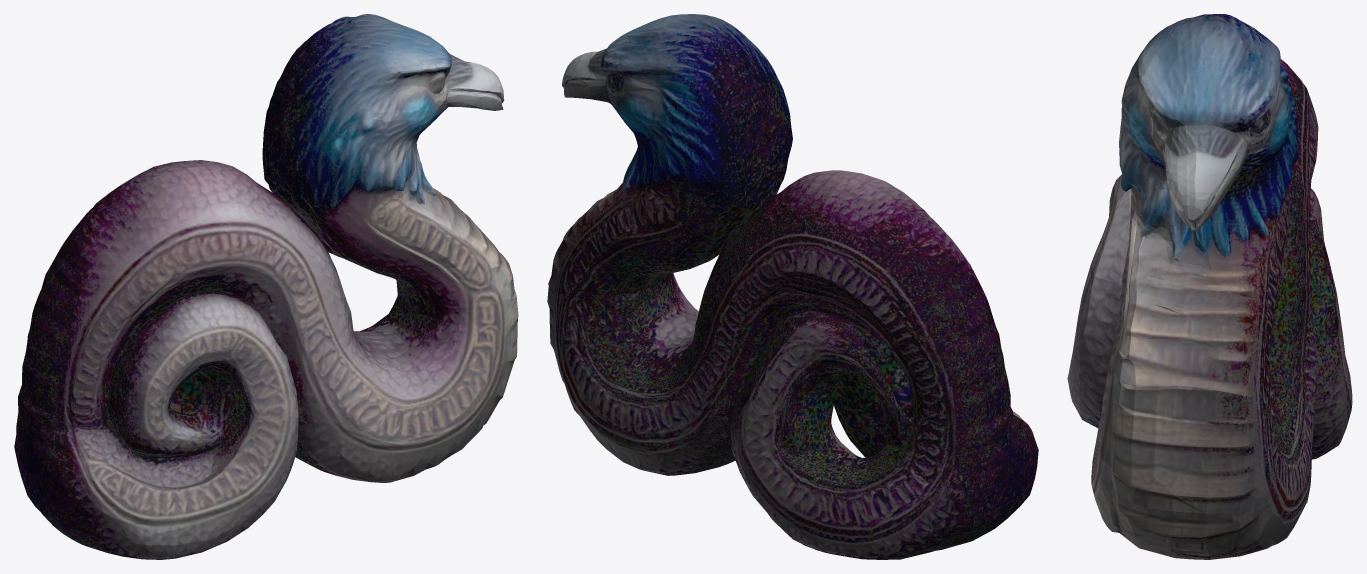
The model's file is duskcoil.glb.
3 views of the same model, side by side, from view 1: azimuth 30°, elevation 25°; view 2: azimuth 150°, elevation 25°; view 3: azimuth 270°, elevation 25° (orthographic). The views are drawn at different scales.
Visible parts, largest first — view 1: world; view 2: world; view 3: world.
Part boxes in pixels (x1,y1,x2,y2): world: (14,14,518,559); world: (547,14,1038,559); world: (1067,14,1352,559).
Size of the model in its own units: 0.9988 by 0.9338 by 0.4604.
Materials: 1 (1 with a texture image).
